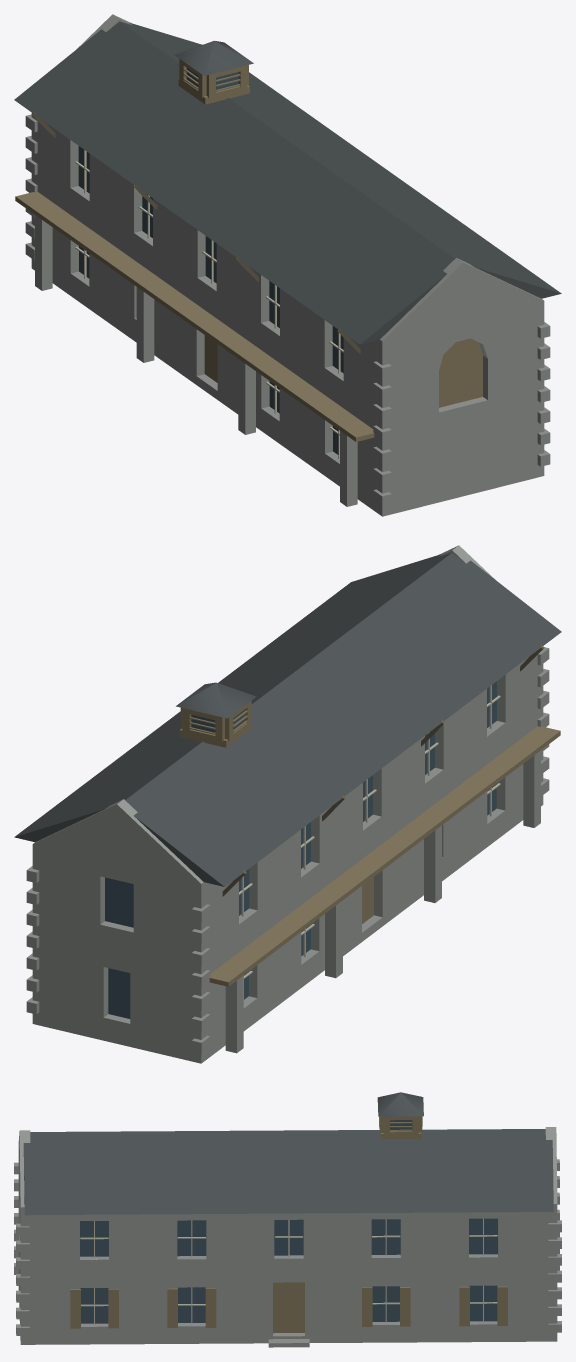
File: ellicott-city-station-far.glb
3 renders of one model, top to bottom at view 1: azimuth 30°, elevation 25°; view 2: azimuth 150°, elevation 25°; view 3: azimuth 270°, elevation 25°, orthographic. The views are drawn at different scales.
Parts seen in each view (by area): view 1: ellicott-city-station-0-stone, ellicott-city-station-0-roof, ellicott-city-station-0-wood, ellicott-city-station-0-glass, ellicott-city-station-0-trim; view 2: ellicott-city-station-0-stone, ellicott-city-station-0-roof, ellicott-city-station-0-wood, ellicott-city-station-0-glass, ellicott-city-station-0-trim; view 3: ellicott-city-station-0-stone, ellicott-city-station-0-roof, ellicott-city-station-0-glass, ellicott-city-station-0-wood, ellicott-city-station-0-trim.
Part boxes in pixels (bbox=[...]): ellicott-city-station-0-stone: bbox=[25, 14, 550, 516]; ellicott-city-station-0-roof: bbox=[14, 21, 561, 344]; ellicott-city-station-0-wood: bbox=[15, 59, 482, 441]; ellicott-city-station-0-glass: bbox=[78, 68, 343, 454]; ellicott-city-station-0-trim: bbox=[75, 150, 343, 458]; ellicott-city-station-0-stone: bbox=[26, 545, 549, 1063]; ellicott-city-station-0-roof: bbox=[14, 553, 561, 886]; ellicott-city-station-0-wood: bbox=[179, 701, 560, 986]; ellicott-city-station-0-glass: bbox=[105, 681, 496, 1018]; ellicott-city-station-0-trim: bbox=[239, 685, 500, 1003]; ellicott-city-station-0-stone: bbox=[14, 1127, 561, 1347]; ellicott-city-station-0-roof: bbox=[23, 1092, 553, 1215]; ellicott-city-station-0-glass: bbox=[80, 1120, 497, 1323]; ellicott-city-station-0-wood: bbox=[70, 1116, 507, 1333]; ellicott-city-station-0-trim: bbox=[80, 1218, 497, 1324].
Size of the model in its own units: 9.94 by 12.4 by 28.17.
